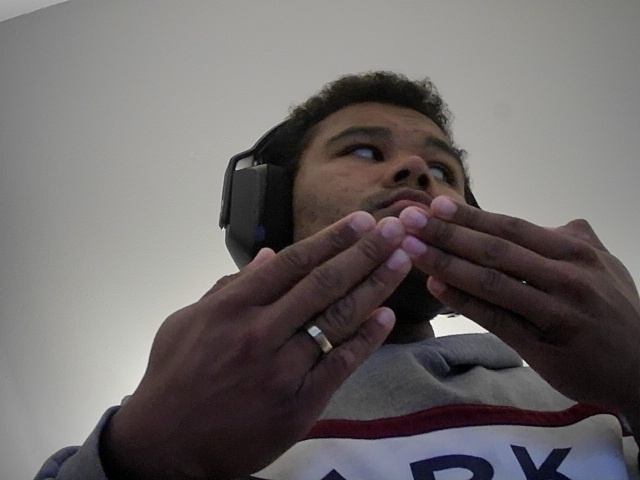ThankYou: (57, 193, 640, 480)
